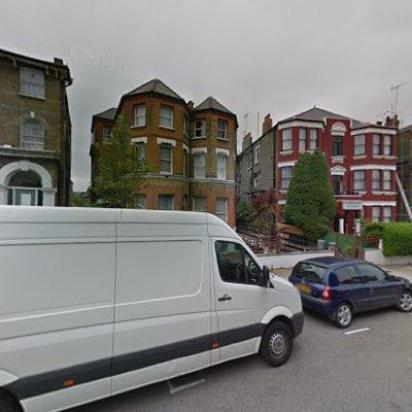stationary-car-onstreet: (288, 254, 412, 332)
stationary-light-truck-onstreet: (0, 204, 302, 412)
